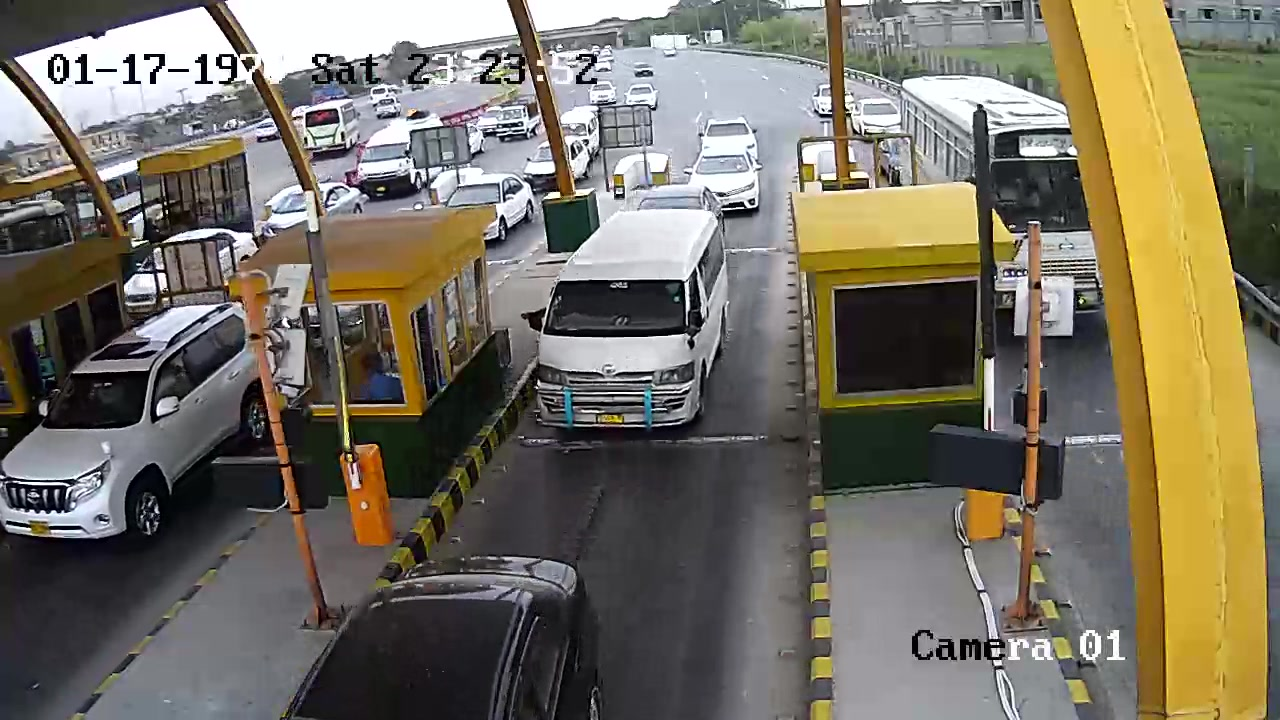F3: (536, 203, 740, 441)
